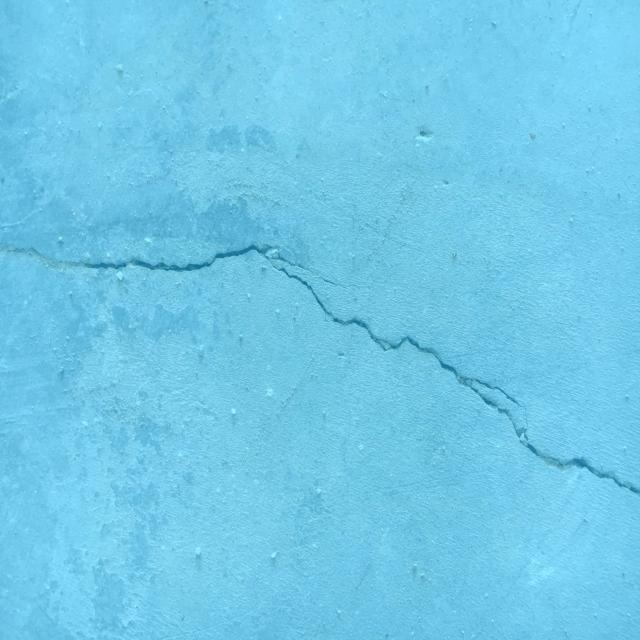crack: (8, 242, 640, 498)
